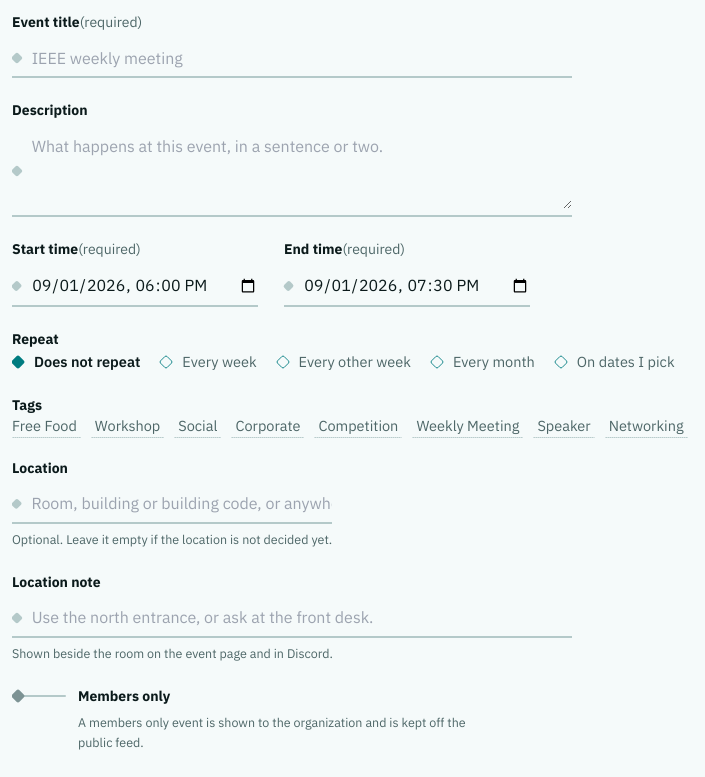
it: EventForm repeat controls › repeats on more than one day when more than one is chosen
Click the button "Every week" at (208, 362), box [160,351,257,373]
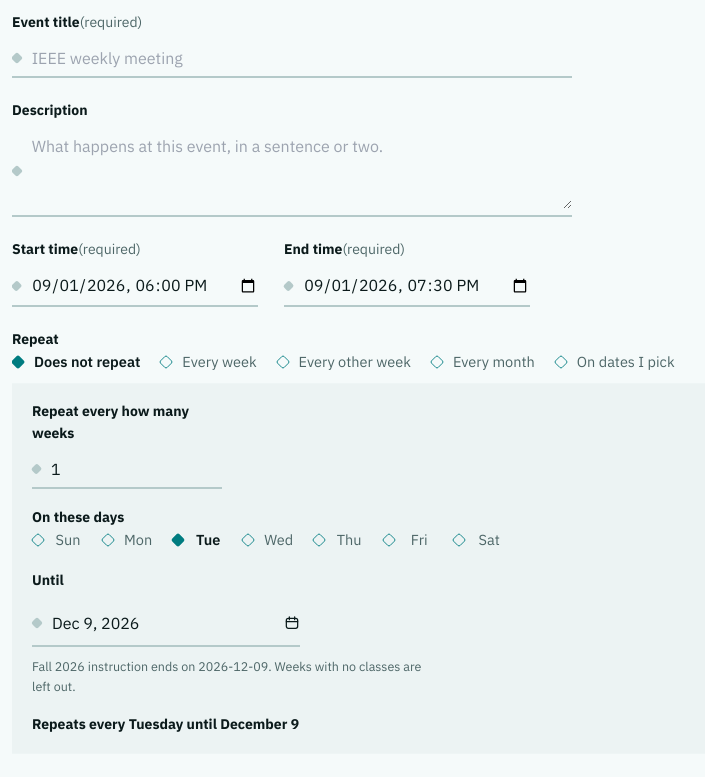
Click the button "Thu" at (338, 540), box [313,529,363,552]
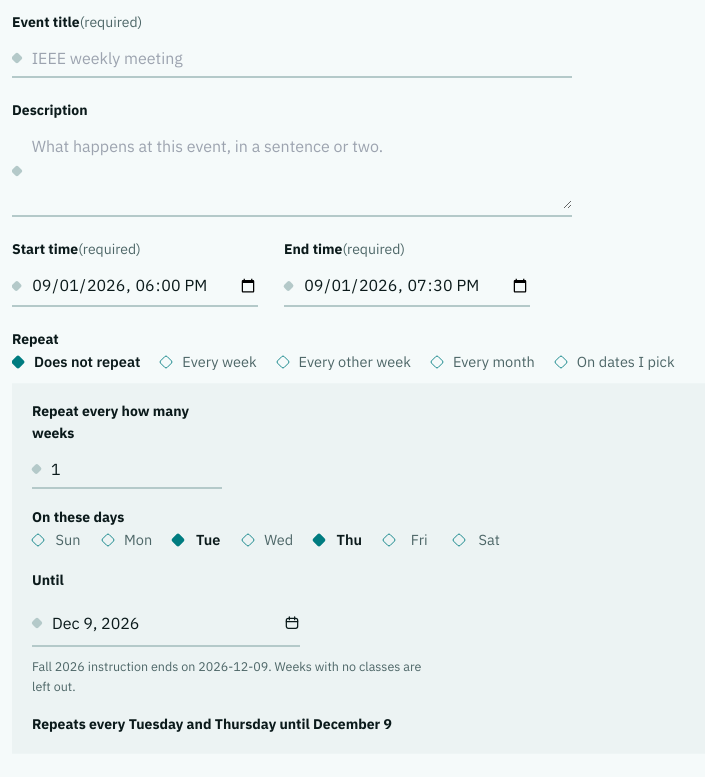
expect the text "Repeats every Tuesday and Thursday until December 9" is shown: met, box [32,715,392,733]
